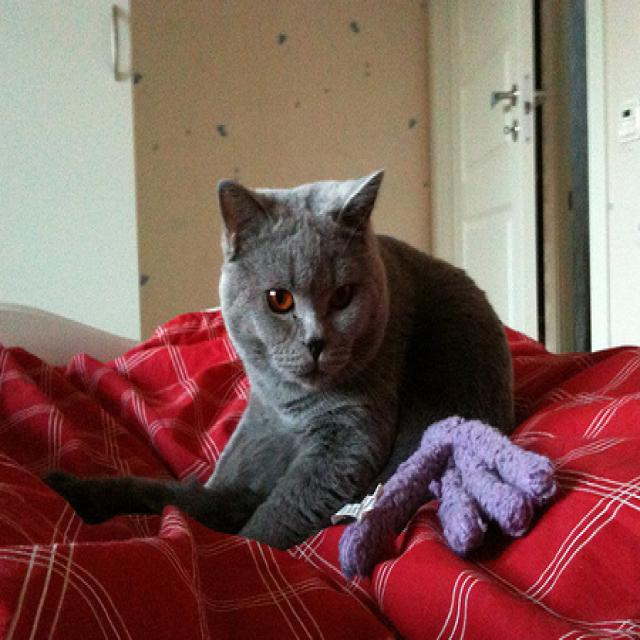British Shorthair: (42, 158, 520, 555)
